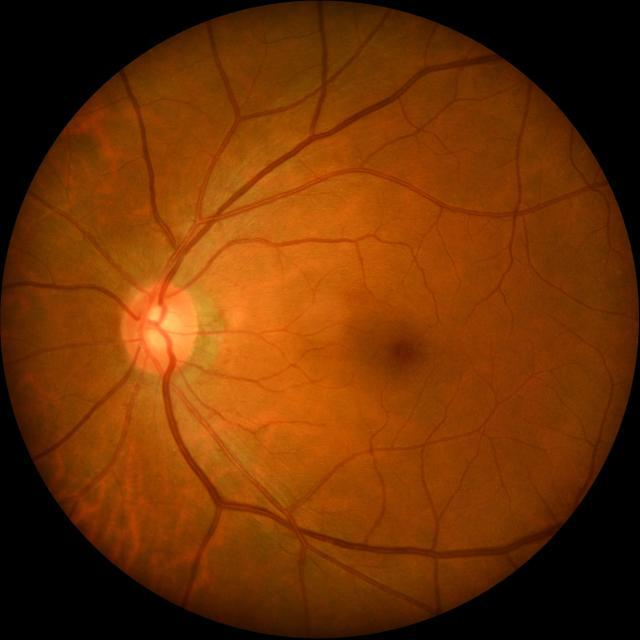OC: (142, 304, 182, 356)
OD: (121, 280, 198, 376)
